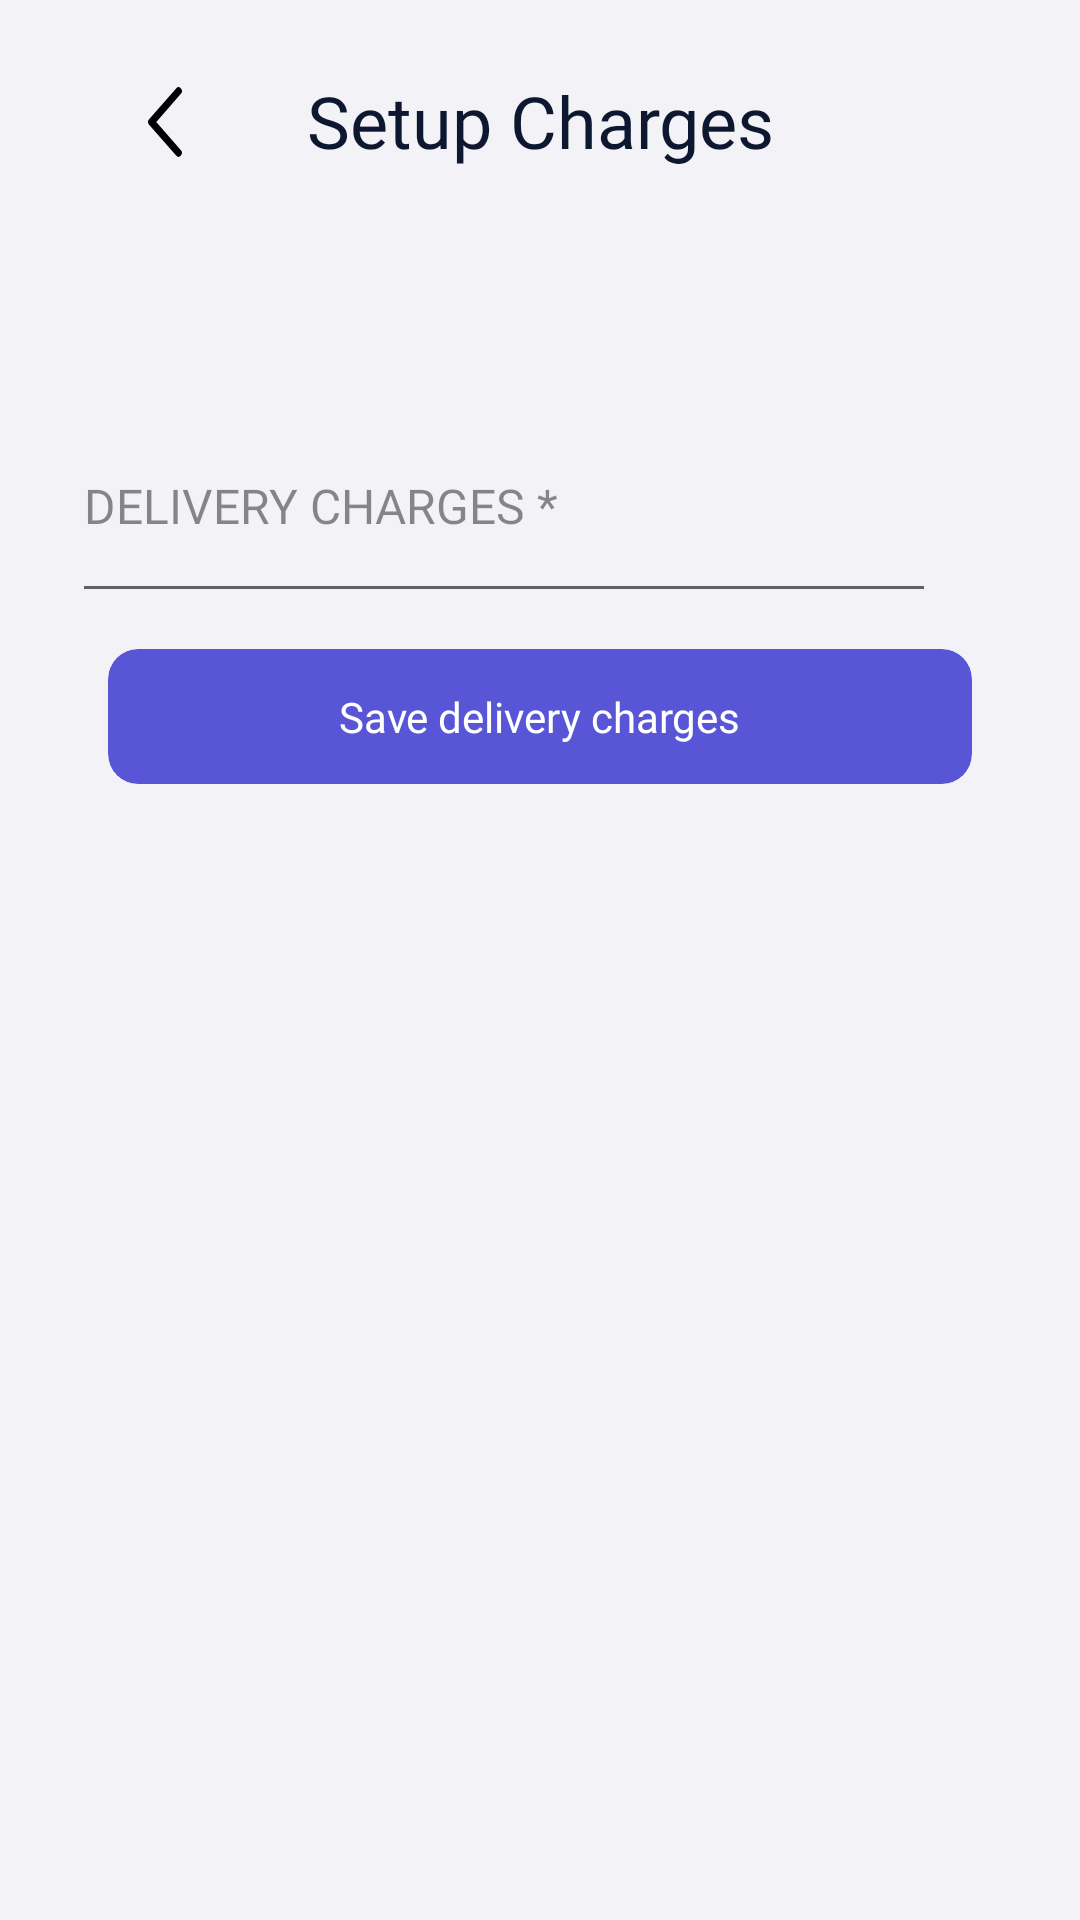

Screen size 1080×1920. Icon name, then its box in pixels as (x1, y1, x2, y2):
left click arrow: (148, 87, 182, 157)
